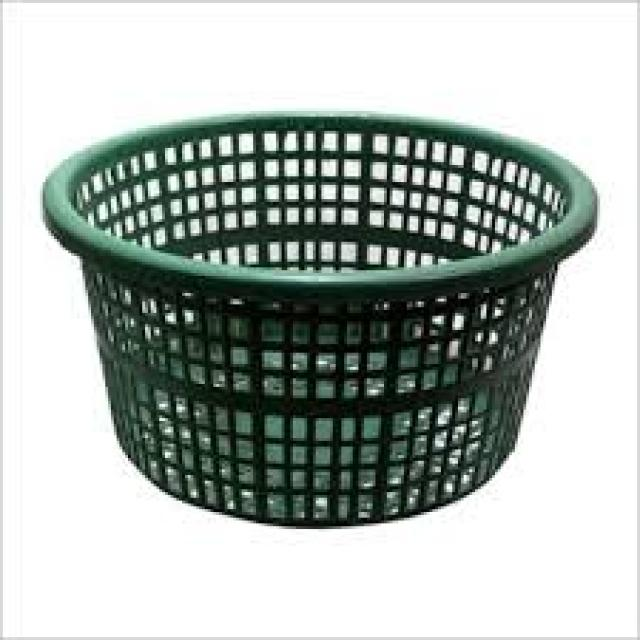basket: (46, 117, 597, 528)
